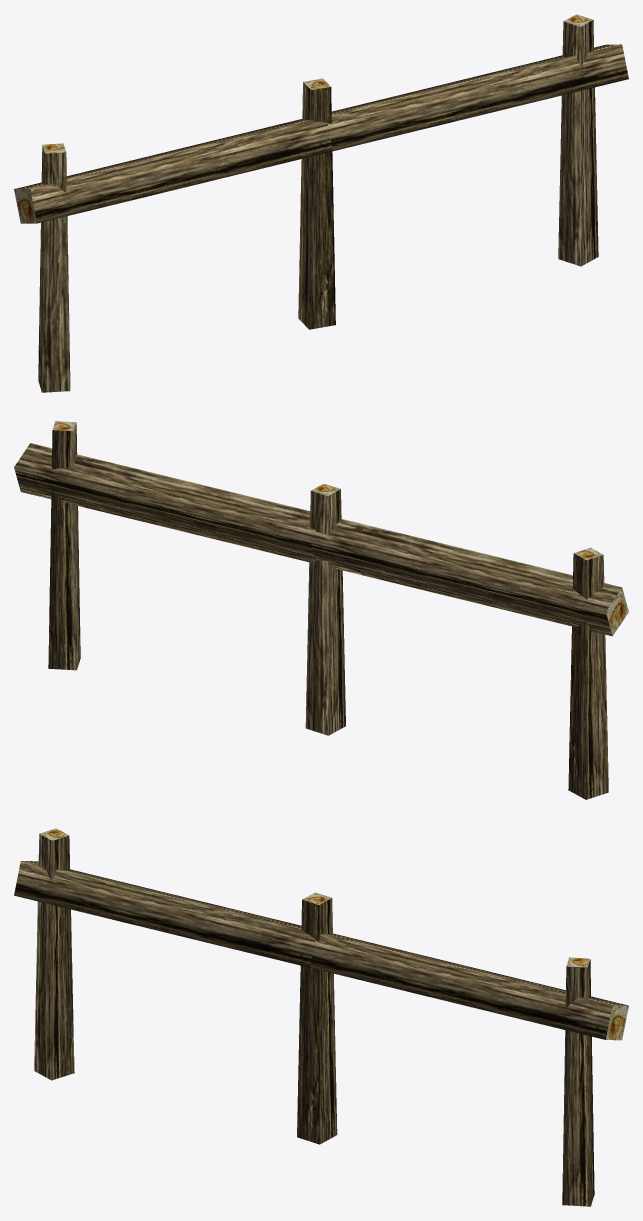
Rendered from WoodFence02.FBX.
3 renders of one model, top to bottom at view 1: azimuth 30°, elevation 25°; view 2: azimuth 150°, elevation 25°; view 3: azimuth 330°, elevation 25°, orthographic.
Parts seen in each view (by area): view 1: WoodFence02; view 2: WoodFence02; view 3: WoodFence02.
Boxes of the visible parts, x1=… form: WoodFence02: x1=14, y1=14, x2=628, y2=392; WoodFence02: x1=14, y1=421, x2=628, y2=799; WoodFence02: x1=14, y1=828, x2=628, y2=1206.
Size of the model in its own units: 365 by 140 by 24.75.
